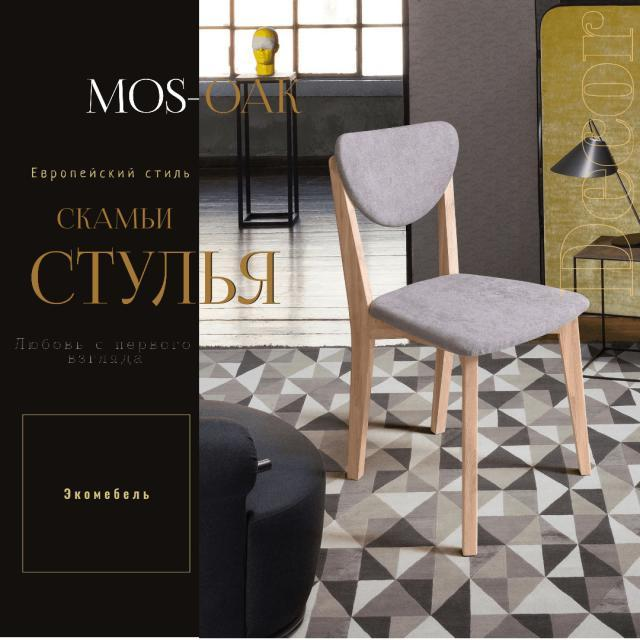chair: (323, 118, 596, 560), (325, 118, 582, 358)
